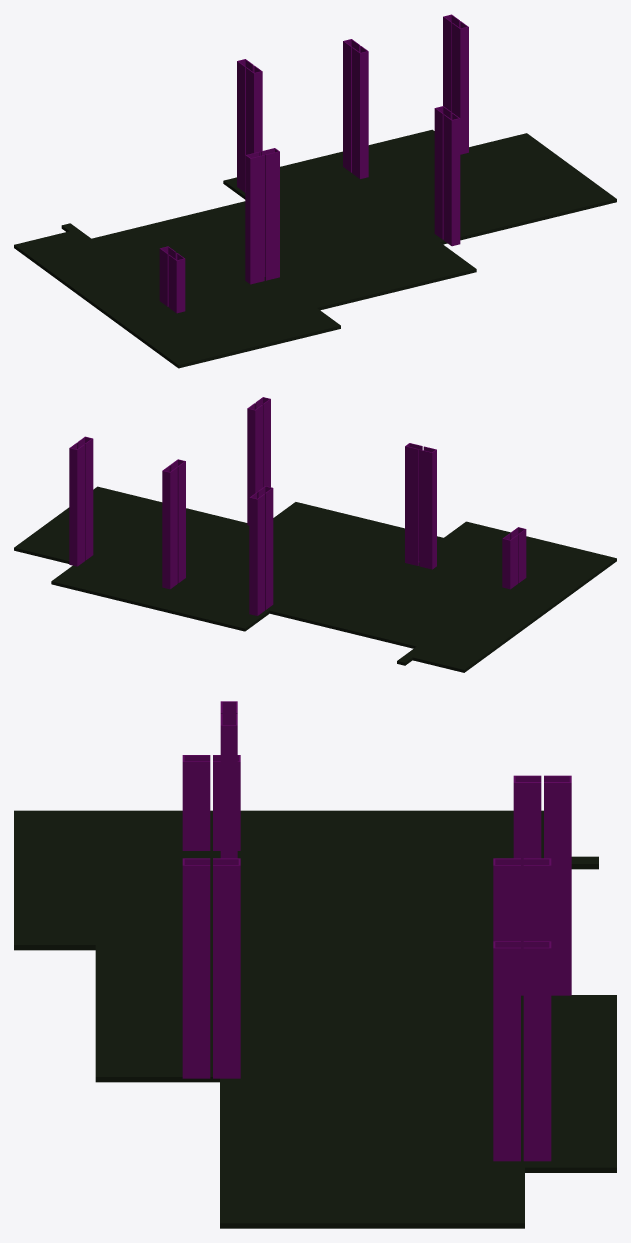
Rendered from Dynamics_Textures.fbx.
3 views of the same model, one above another, from view 1: azimuth 30°, elevation 25°; view 2: azimuth 150°, elevation 25°; view 3: azimuth 270°, elevation 25° (orthographic). The views are drawn at different scales.
Parts seen in each view (by area): view 1: TilesFloorMain, Mian_Pillar_Tiles_In; view 2: TilesFloorMain, Mian_Pillar_Tiles_In; view 3: TilesFloorMain, Mian_Pillar_Tiles_In.
Boxes of the visible parts, box(x1,y1,x2,y2) form: TilesFloorMain: box(14, 129, 616, 368); Mian_Pillar_Tiles_In: box(159, 14, 468, 313); TilesFloorMain: box(14, 486, 616, 672); Mian_Pillar_Tiles_In: box(69, 397, 526, 615); TilesFloorMain: box(14, 810, 616, 1228); Mian_Pillar_Tiles_In: box(182, 701, 571, 1161).
Size of the model in its own units: 21.84 by 5.54 by 13.49.
